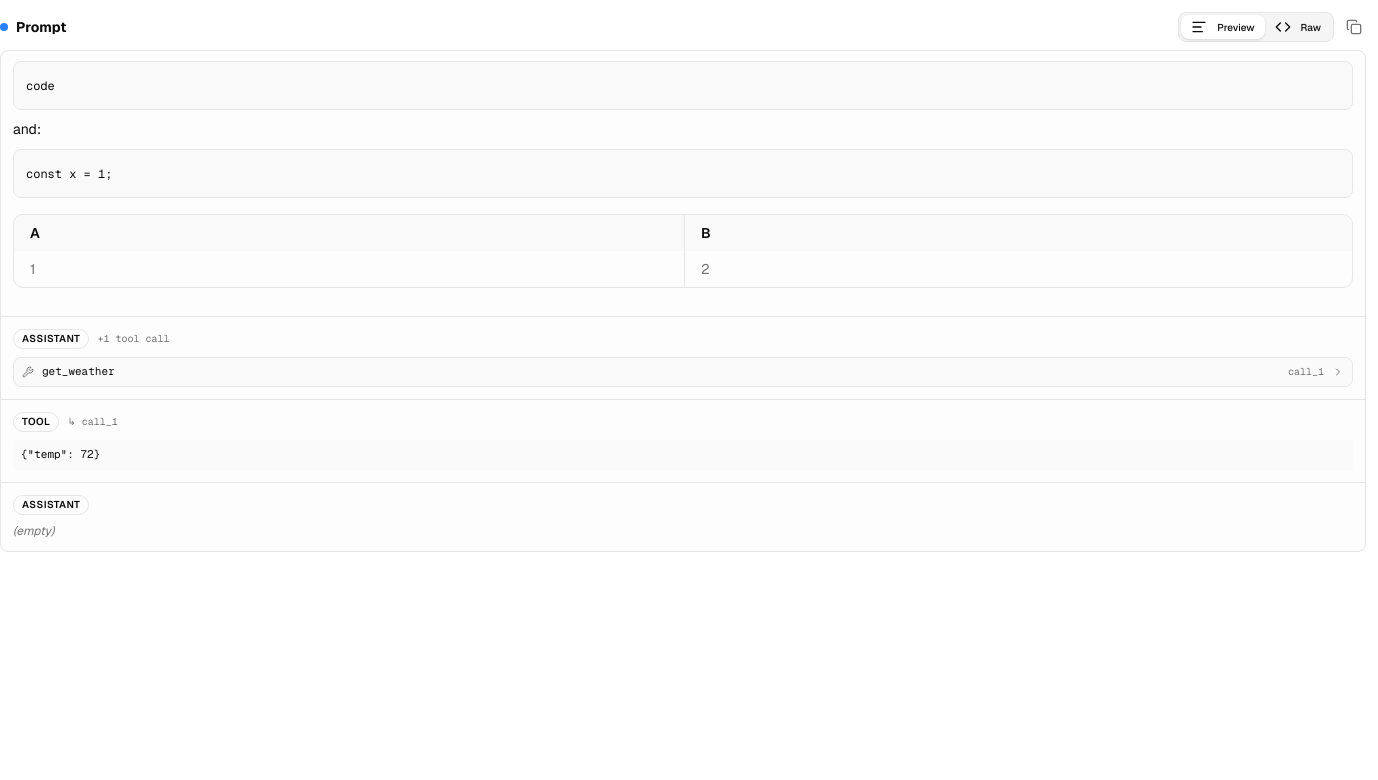
Scenario: RequestPreview › LogToolCallCard expands/collapses on click and shows pretty JSON
(page scrolled)
Expected: the text "\"city\": \"NYC\"" is not shown
Click the button "get_weather call_1": (78, 371) [14, 358, 1352, 386]
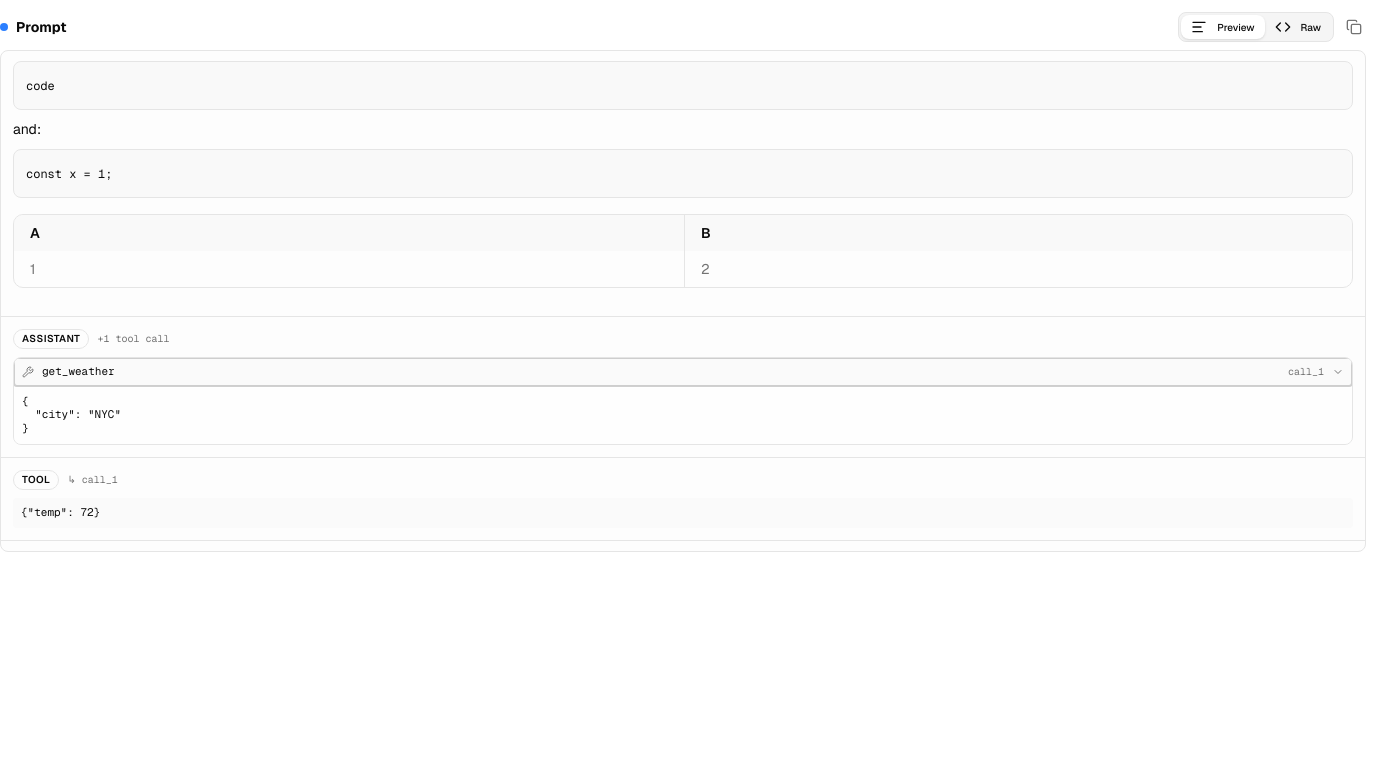
Result: the text "{ \"city\": \"NYC\" }" is shown at [14, 386, 1352, 444]
Click the button "get_weather call_1": (78, 371) [14, 358, 1352, 386]
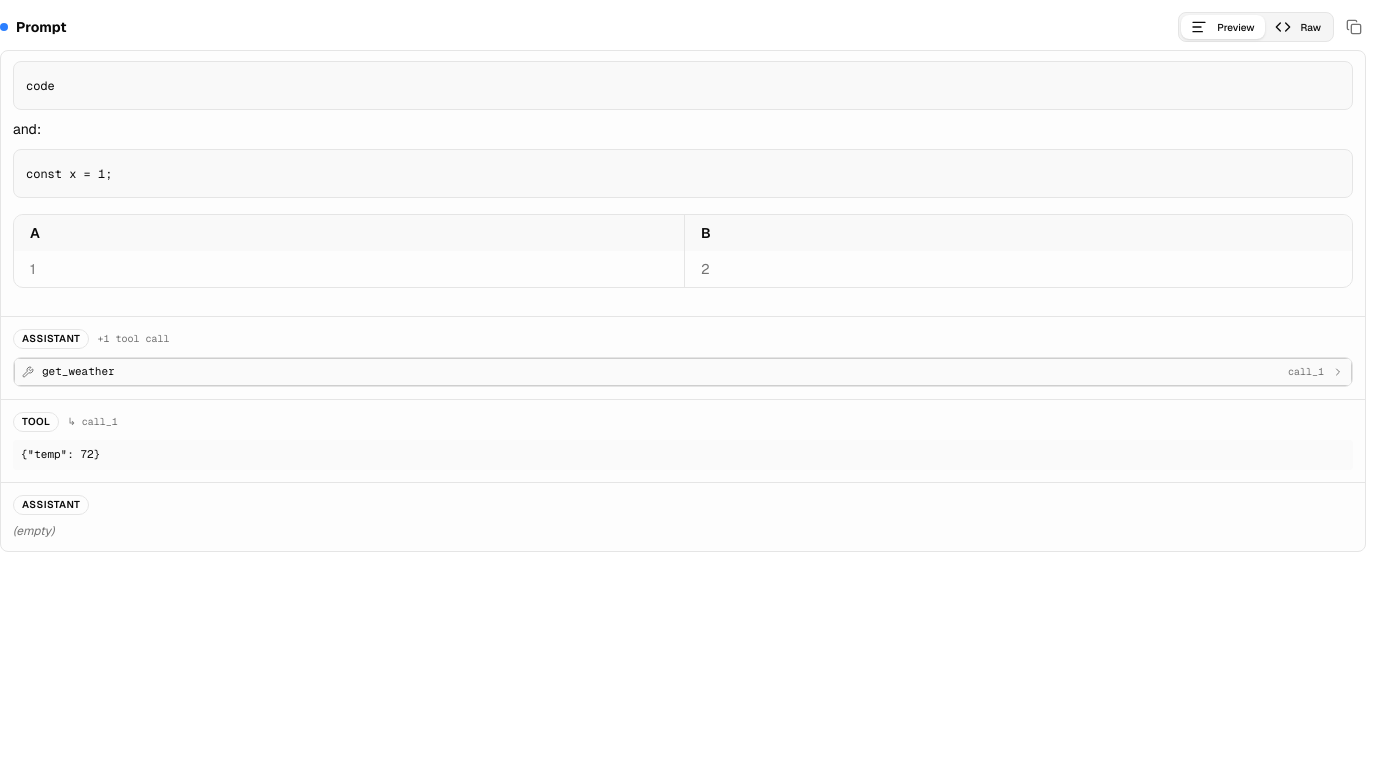
Result: the text "\"city\": \"NYC\"" is gone
